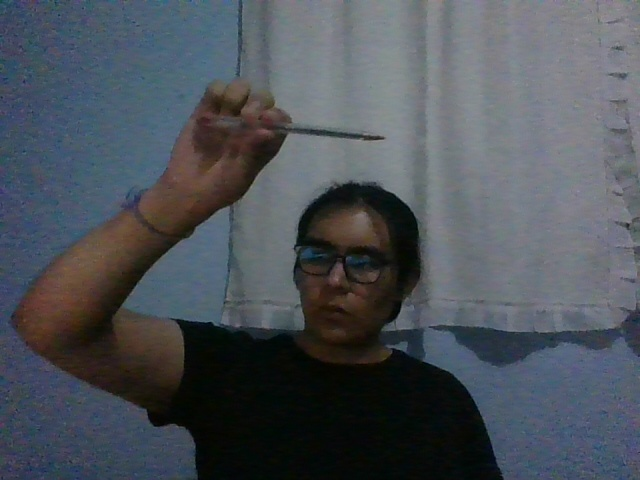pluma: (200, 116, 387, 141)
